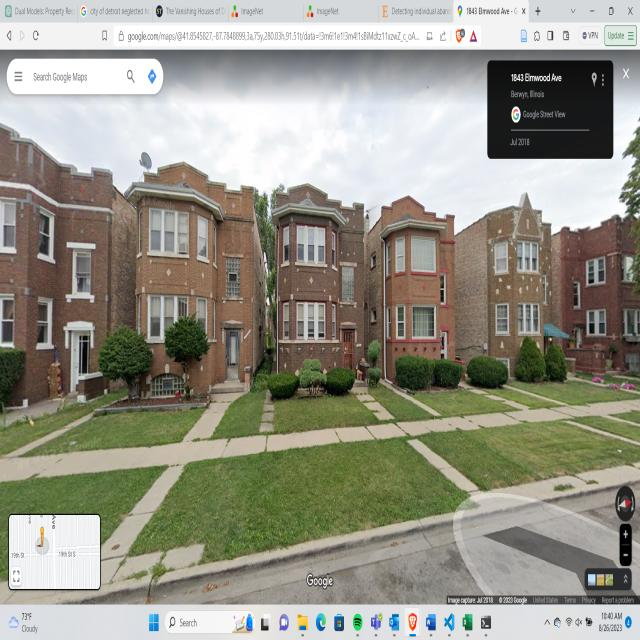House: (0, 121, 138, 409), (129, 159, 270, 397), (455, 192, 569, 378), (271, 184, 365, 391), (363, 196, 455, 378), (552, 212, 640, 374)
